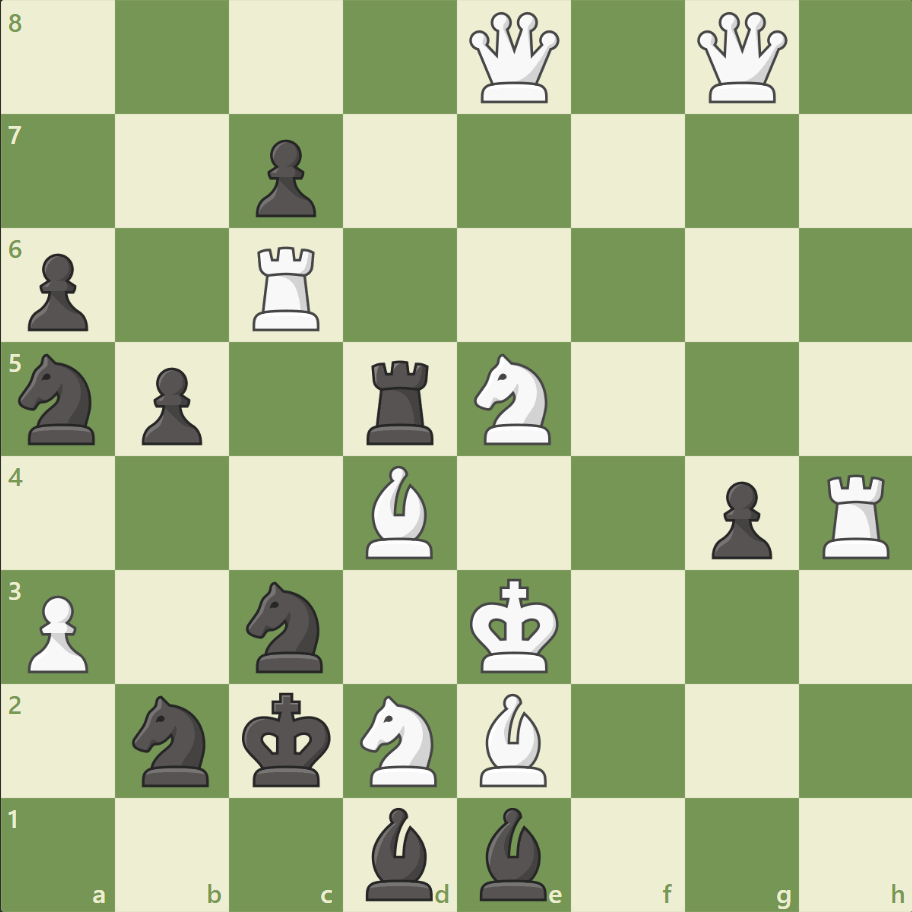B: (358, 460, 442, 563), (471, 687, 555, 790)
K: (465, 571, 565, 679)
N: (351, 688, 449, 791), (465, 348, 562, 450)
P: (20, 586, 95, 677)
Q: (464, 9, 563, 108), (691, 9, 790, 108)
R: (246, 239, 329, 336), (814, 466, 897, 563)
b: (358, 801, 442, 904), (471, 801, 555, 904)
k: (238, 685, 338, 793)
n: (124, 688, 222, 791), (11, 348, 108, 450), (238, 575, 335, 677)
p: (247, 132, 322, 223), (20, 246, 95, 337), (133, 359, 208, 450), (701, 473, 776, 564)
r: (360, 352, 442, 449)
